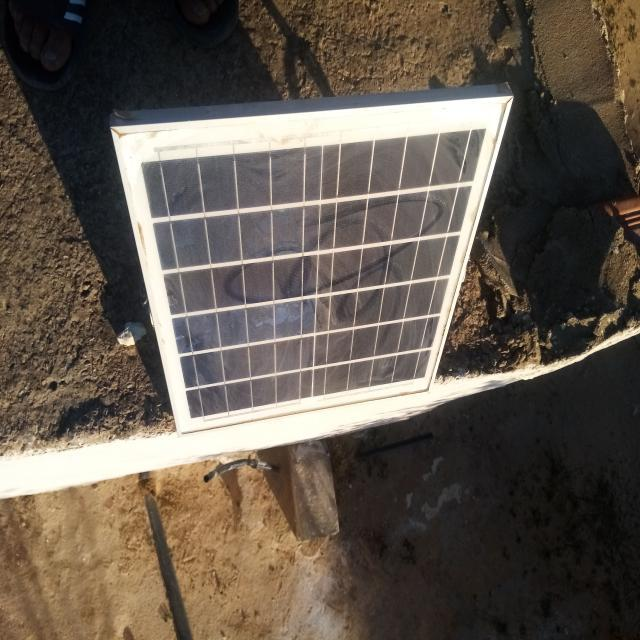faulty: (112, 96, 512, 429)
